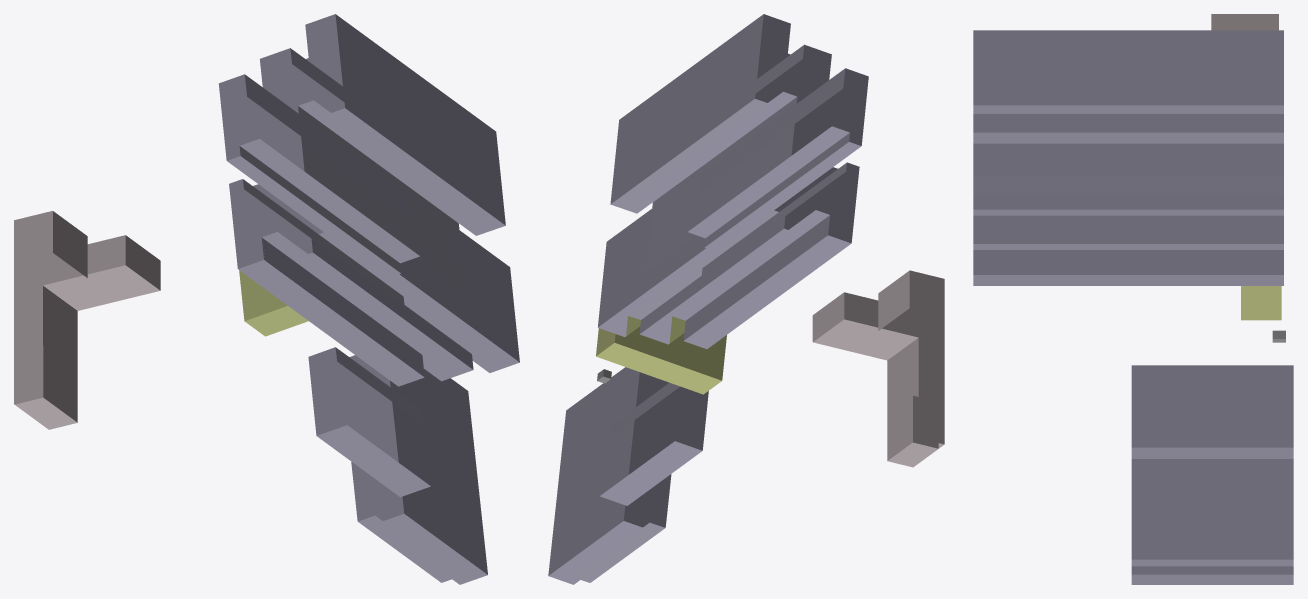
3 views of the same model, side by side, from view 1: azimuth 30°, elevation 25°; view 2: azimuth 150°, elevation 25°; view 3: azimuth 270°, elevation 25° (orthographic). The views are drawn at different scales.
Visible parts, largest first — view 1: 0_3_2_2_3_0_0; view 2: 0_3_2_2_3_0_0; view 3: 0_3_2_2_3_0_0.
Part boxes in pixels (box(x1,y1,x2,y2)): 0_3_2_2_3_0_0: box(14, 14, 519, 584); 0_3_2_2_3_0_0: box(548, 14, 944, 584); 0_3_2_2_3_0_0: box(973, 14, 1293, 584).
Size of the model in its own units: 98.65 by 124 by 71.15.
